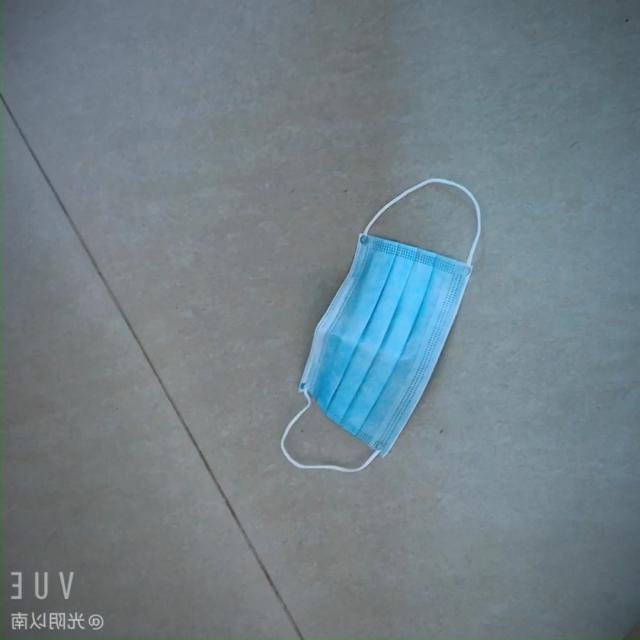face mask: (292, 231, 497, 447)
